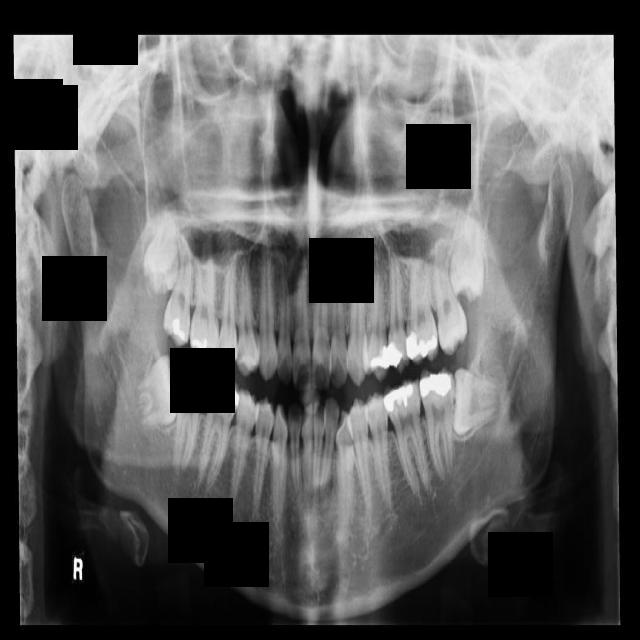3M ESPE Implant: (144, 197, 179, 298)
52: (379, 376, 430, 429), (203, 374, 241, 425), (403, 315, 440, 366), (418, 367, 456, 416), (188, 310, 221, 360), (361, 332, 391, 383), (175, 360, 206, 407), (163, 297, 190, 349), (385, 323, 411, 374)
73: (584, 584, 595, 597)
BioHorizons Implant: (428, 236, 470, 356)
BioLife Implant: (448, 173, 484, 303)
Biomet 3i Implant: (449, 367, 502, 438)
Blue Sky Bio Implant: (417, 365, 466, 485)
Caries: (163, 228, 193, 350)
Implant: (173, 360, 207, 474)
Keystone Dental Implant: (126, 354, 186, 430)
